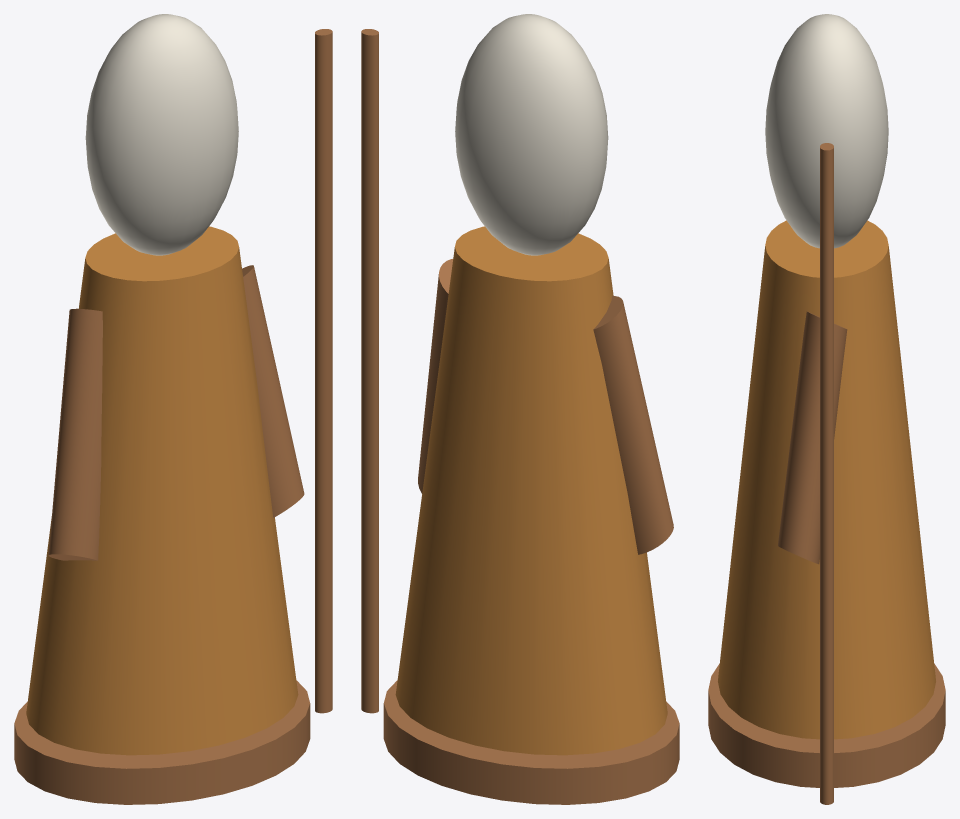
Rendered from wp-santon-de-berger.glb.
3 renders of one model, left to right at view 1: azimuth 30°, elevation 25°; view 2: azimuth 150°, elevation 25°; view 3: azimuth 270°, elevation 25°, orthographic. The views are drawn at different scales.
Parts seen in each view (by area): view 1: wp-santon-de-berger; view 2: wp-santon-de-berger; view 3: wp-santon-de-berger.
Part boxes in pixels (box(x1,y1,x2,y2)): wp-santon-de-berger: box(14, 14, 332, 804); wp-santon-de-berger: box(361, 14, 679, 804); wp-santon-de-berger: box(708, 14, 945, 804).
Bounding box in the file's own units: 0.1 × 0.23 × 0.07.
